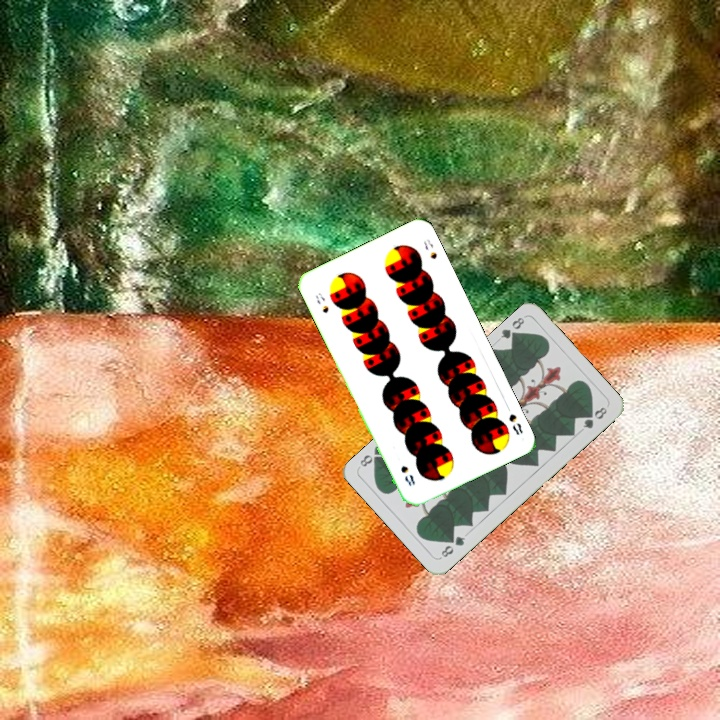G8: (496, 313, 527, 344), (437, 532, 468, 560)
S8: (504, 410, 525, 438), (311, 289, 331, 316)
